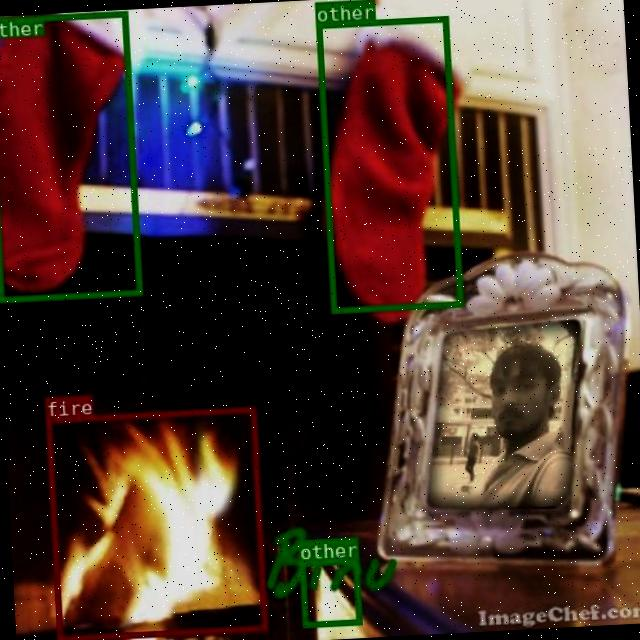fire: (45, 405, 266, 640)
